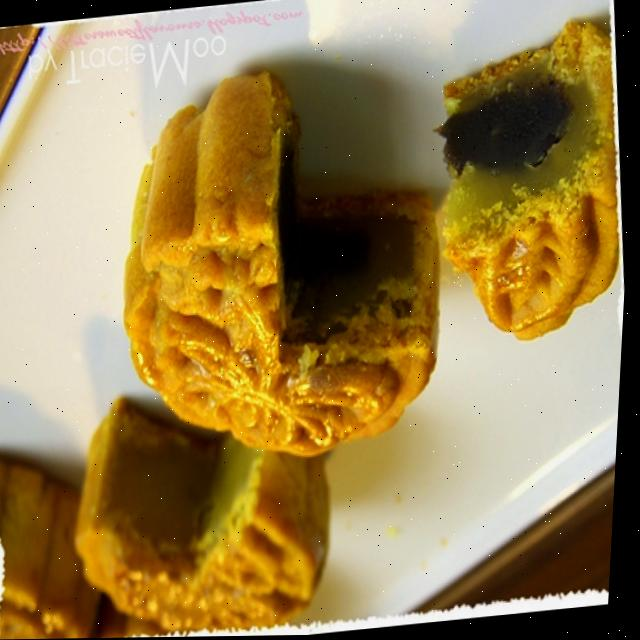蛋糕甜品: (52, 30, 638, 485)
